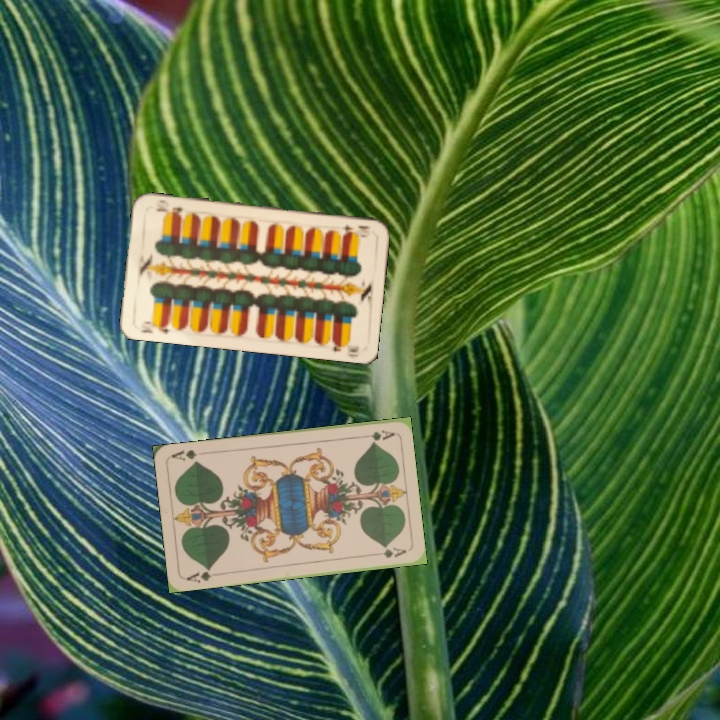E10: (136, 317, 173, 336), (334, 220, 373, 237)
GA: (183, 564, 222, 585), (356, 426, 396, 443)
